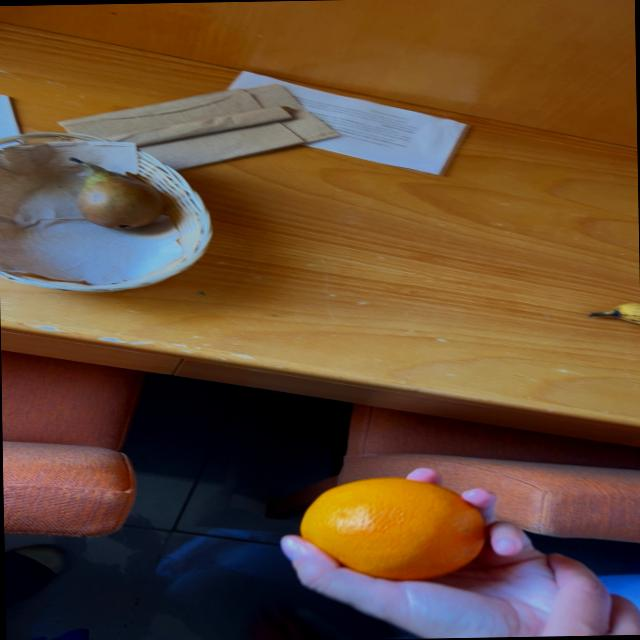orange: (301, 477, 484, 579)
pear: (71, 158, 163, 228)
